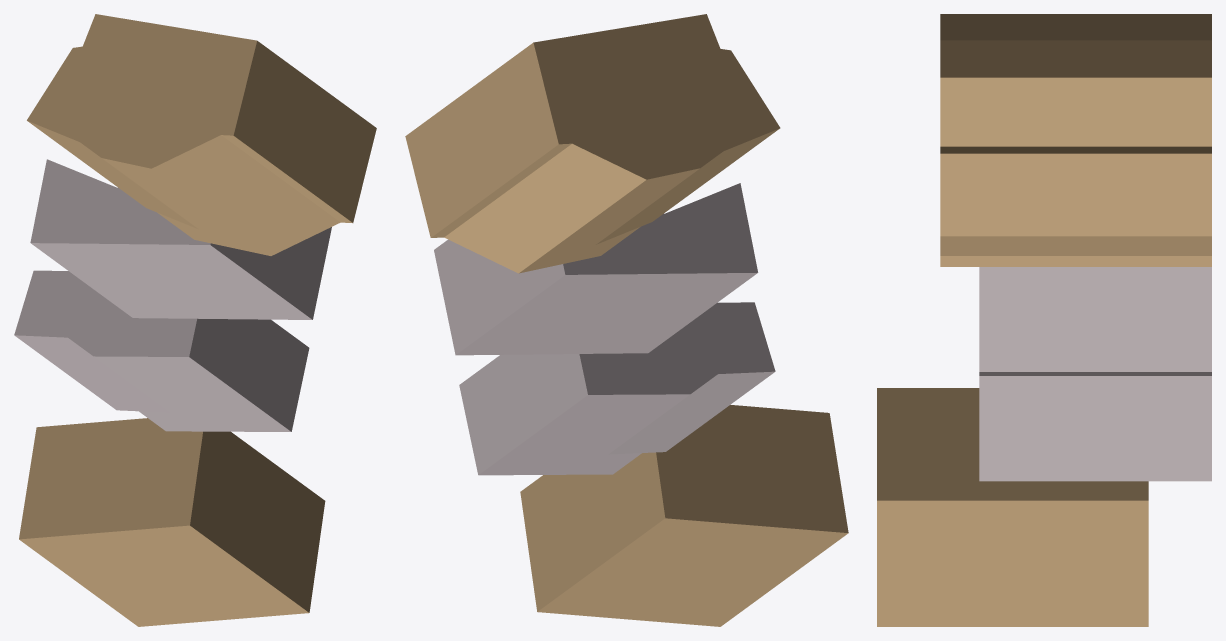
3 views of the same model, side by side, from view 1: azimuth 30°, elevation 25°; view 2: azimuth 150°, elevation 25°; view 3: azimuth 270°, elevation 25° (orthographic). The views are drawn at different scales.
Visible parts, largest first — view 1: 0_3_0_1_1_2_0_1_2; view 2: 0_3_0_1_1_2_0_1_2; view 3: 0_3_0_1_1_2_0_1_2.
Part boxes in pixels (x1,y1,x2,y2): 0_3_0_1_1_2_0_1_2: (14, 14, 376, 626); 0_3_0_1_1_2_0_1_2: (405, 14, 848, 626); 0_3_0_1_1_2_0_1_2: (877, 14, 1211, 626).
Size of the model in its own units: 27 by 49.15 by 25.9.
